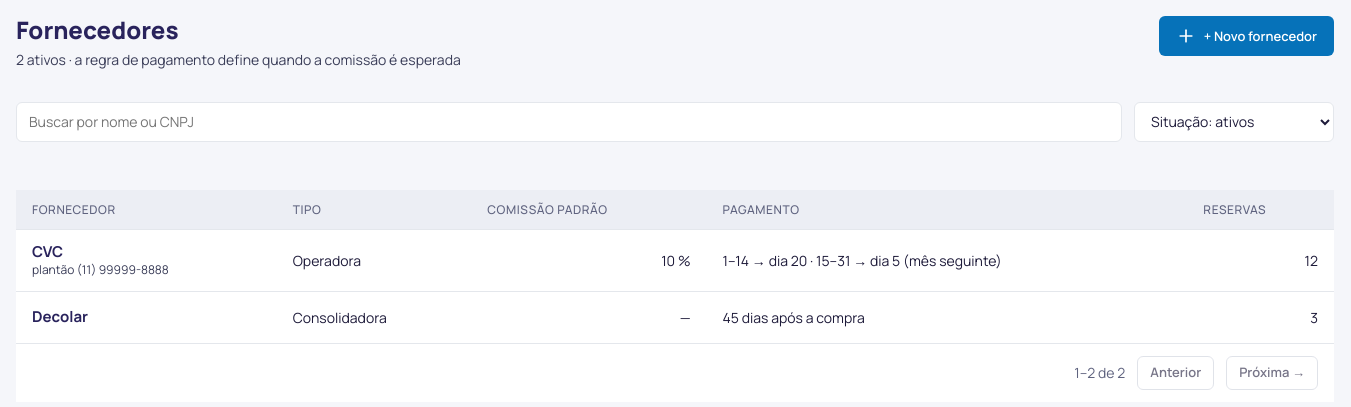
cabeçalho troca o rótulo conforme o filtro de situação
Check: the text "CVC" is shown, box [32, 241, 63, 262]
Step 1. Select "Situação: inativos" in the dropdown named "Situação" → (1234, 122), box [1134, 102, 1334, 142]
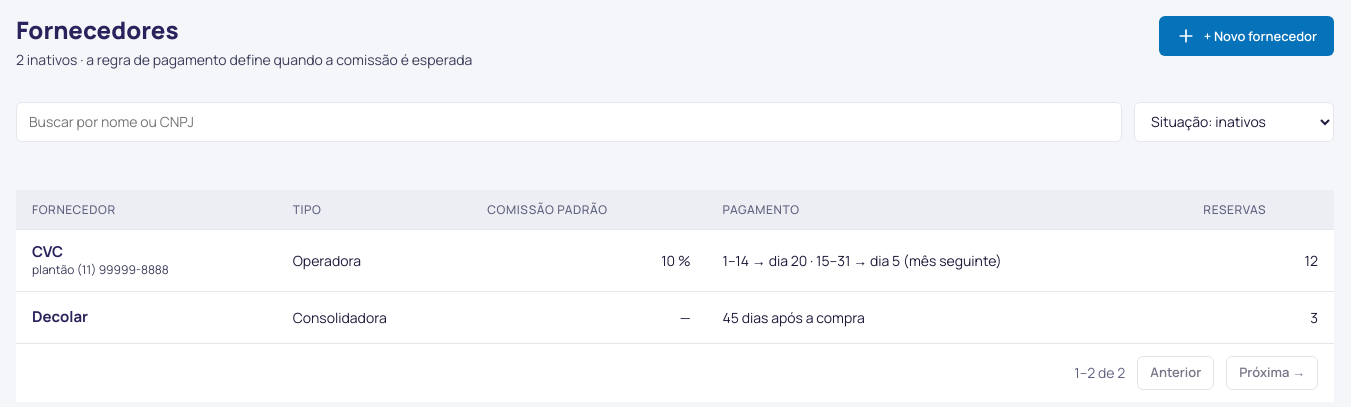
Check: the text "2 inativos · a regra de pagamento define quando a comissão é esperada" is shown, box [16, 49, 472, 70]
Step 2. Select "Situação: todos" in the dropdown named "Situação" → (1234, 122), box [1134, 102, 1334, 142]
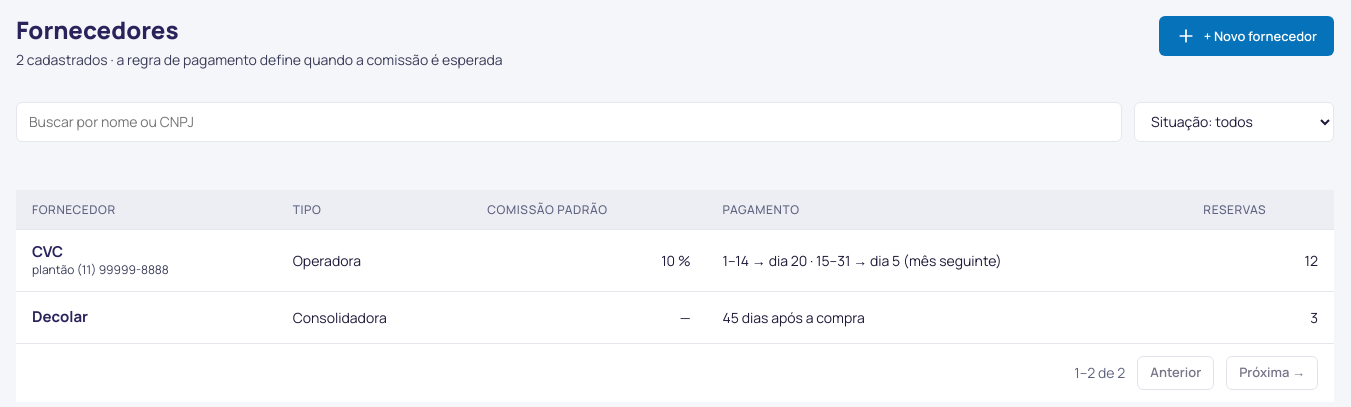
Check: the text "2 cadastrados · a regra de pagamento define quando a comissão é esperada" is shown, box [16, 49, 503, 70]
